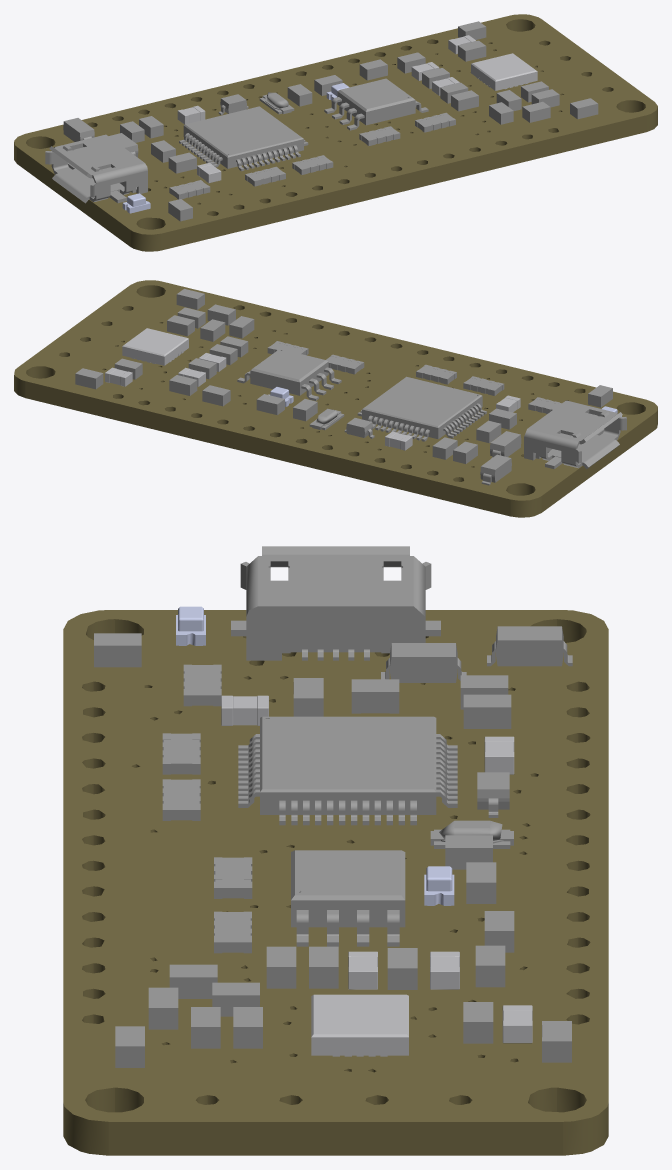
File: ada-2217.glb
The picture shows the model from 3 angles, top to bottom: view 1: azimuth 30°, elevation 25°; view 2: azimuth 150°, elevation 25°; view 3: azimuth 270°, elevation 25°; orthographic projection. The views are drawn at different scales.
Parts seen in each view (by area): view 1: 0.16666666666666666_0.16666666666666666_0.08333333333333333_, 0.3333333333333333_0.3333333333333333_0.3333333333333333_0, 0.5833333333333334_0.5833333333333334_0.5833333333333334_0.8, 0.5833333333333334_0.6666666666666666_0.8333333333333334_0; view 2: 0.16666666666666666_0.16666666666666666_0.08333333333333333_, 0.3333333333333333_0.3333333333333333_0.3333333333333333_0, 0.5833333333333334_0.5833333333333334_0.5833333333333334_0.8; view 3: 0.16666666666666666_0.16666666666666666_0.08333333333333333_, 0.3333333333333333_0.3333333333333333_0.3333333333333333_0, 0.5833333333333334_0.5833333333333334_0.5833333333333334_0.8, 0.5833333333333334_0.6666666666666666_0.8333333333333334_0.
Part boxes in pixels (x1,y1,x2,y2): 0.16666666666666666_0.16666666666666666_0.08333333333333333_: [14, 14, 657, 251]; 0.3333333333333333_0.3333333333333333_0.3333333333333333_0: [45, 21, 598, 221]; 0.5833333333333334_0.5833333333333334_0.5833333333333334_0.8: [177, 35, 537, 183]; 0.5833333333333334_0.6666666666666666_0.8333333333333334_0: [122, 83, 349, 213]; 0.16666666666666666_0.16666666666666666_0.08333333333333333_: [14, 280, 657, 517]; 0.3333333333333333_0.3333333333333333_0.3333333333333333_0: [75, 288, 626, 485]; 0.5833333333333334_0.5833333333333334_0.5833333333333334_0.8: [105, 328, 520, 450]; 0.16666666666666666_0.16666666666666666_0.08333333333333333_: [63, 610, 608, 1155]; 0.3333333333333333_0.3333333333333333_0.3333333333333333_0: [94, 546, 572, 1067]; 0.5833333333333334_0.5833333333333334_0.5833333333333334_0.8: [221, 695, 532, 1056]; 0.5833333333333334_0.6666666666666666_0.8333333333333334_0: [176, 606, 454, 905].
Size of the model in its own units: 5.14 by 0.434 by 2.29.
